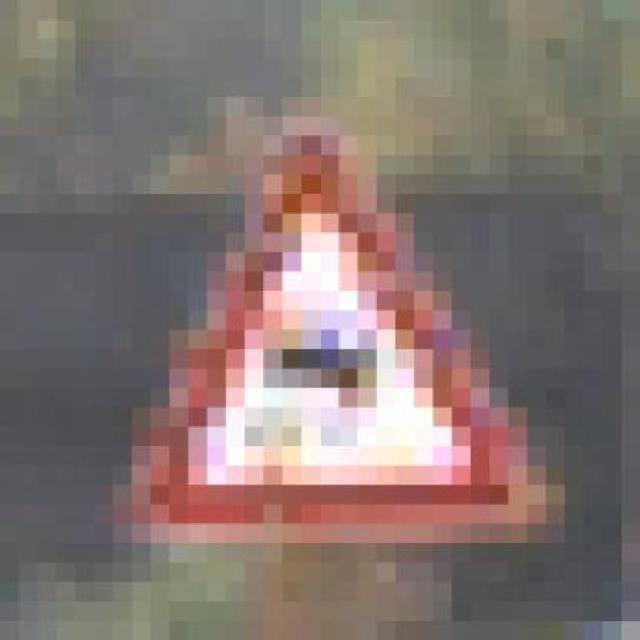Slippery Road Ahead: (112, 116, 565, 562)
